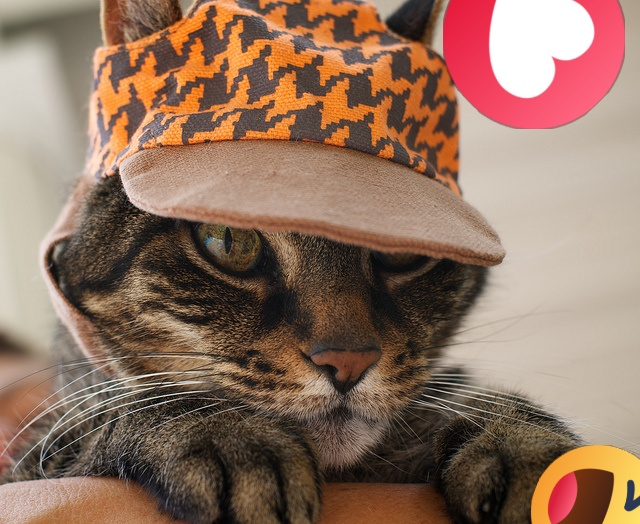haha: (531, 445, 640, 524)
love: (443, 0, 625, 129)
